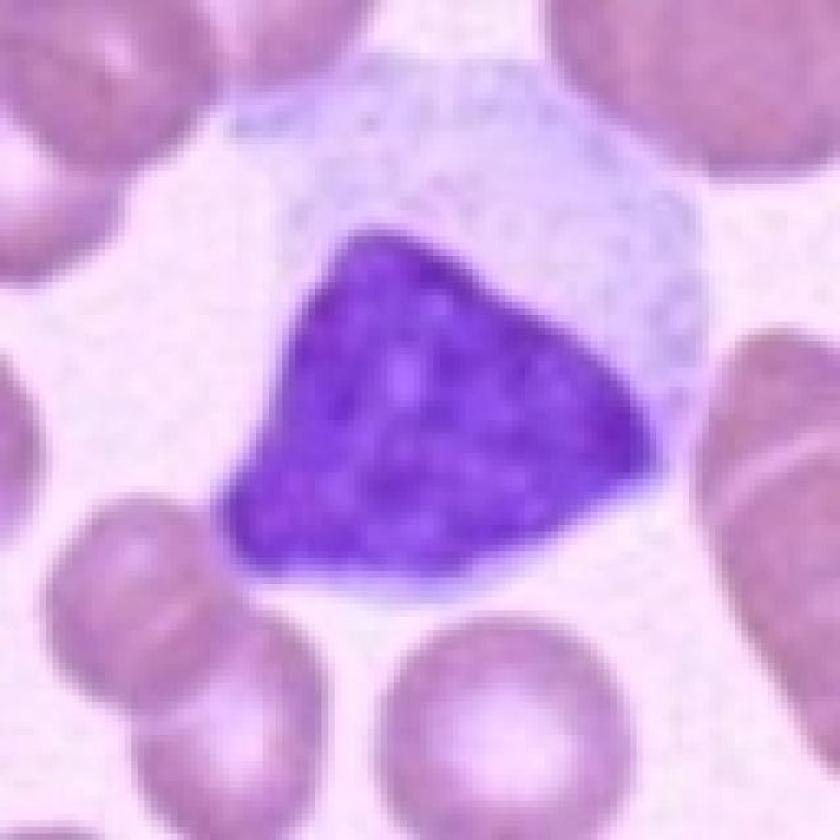lymphocyte: (195, 190, 689, 608)
